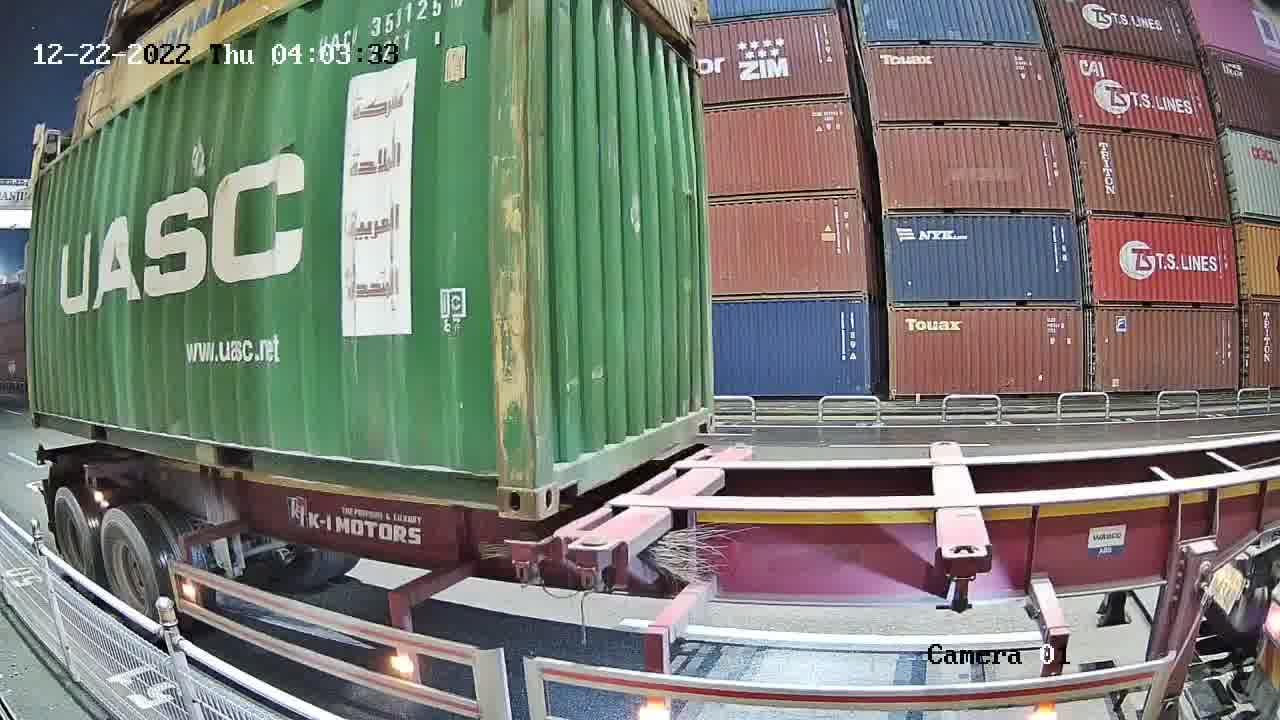Chassis: (570, 445, 753, 567), (510, 444, 709, 549)
Cone: (575, 535, 623, 593), (508, 528, 547, 580)
Hole_L: (536, 432, 601, 518)
Hole_R: (465, 451, 536, 516), (684, 389, 716, 440)
Tire: (99, 510, 155, 616), (53, 488, 98, 575)
